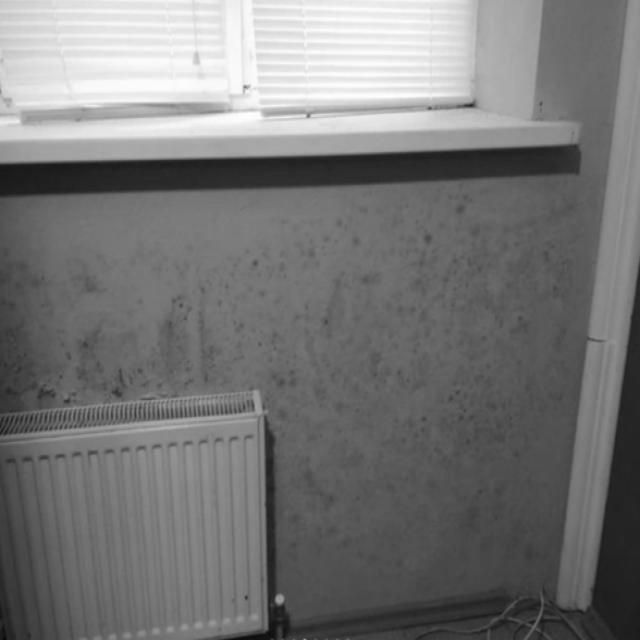stain marks: (275, 174, 602, 590), (0, 230, 271, 412), (531, 89, 614, 123)
